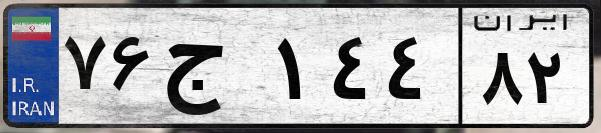1: (270, 28, 330, 110)
2: (525, 38, 570, 115)
4: (385, 28, 445, 110), (330, 28, 385, 110)
6: (110, 28, 158, 98)
7: (57, 26, 110, 100)
8: (475, 38, 525, 113)
ج: (158, 20, 270, 120)
